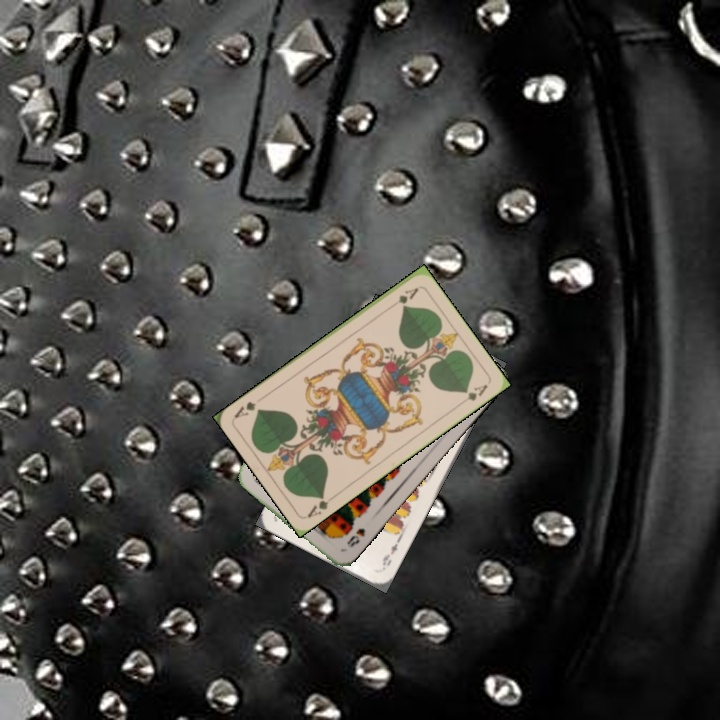E9: (378, 536, 402, 573)
GA: (303, 491, 338, 520), (385, 284, 421, 311)
S8: (343, 524, 368, 550)
